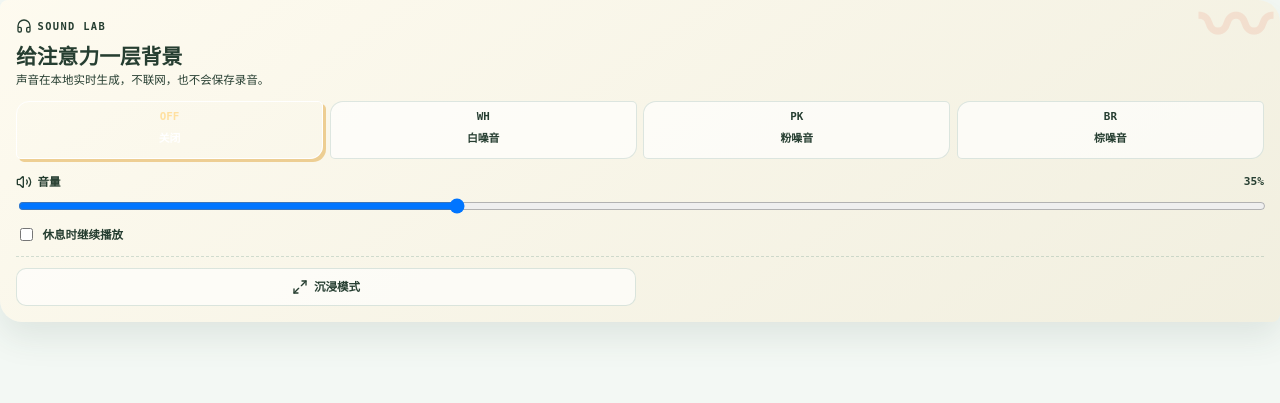
shows a silent fallback when audio playback is unavailable
Step 1. Click the button "WH 白噪音" → {"x": 483, "y": 130}, box x1=330 y1=102 x2=637 y2=160
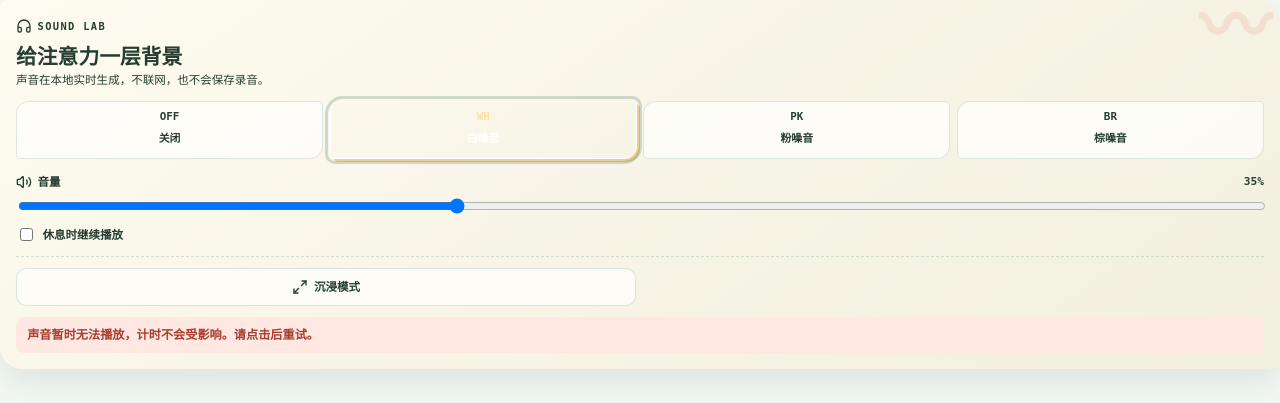
Result: the message shows "声音暂时无法播放" at x1=27 y1=326 x2=319 y2=343
